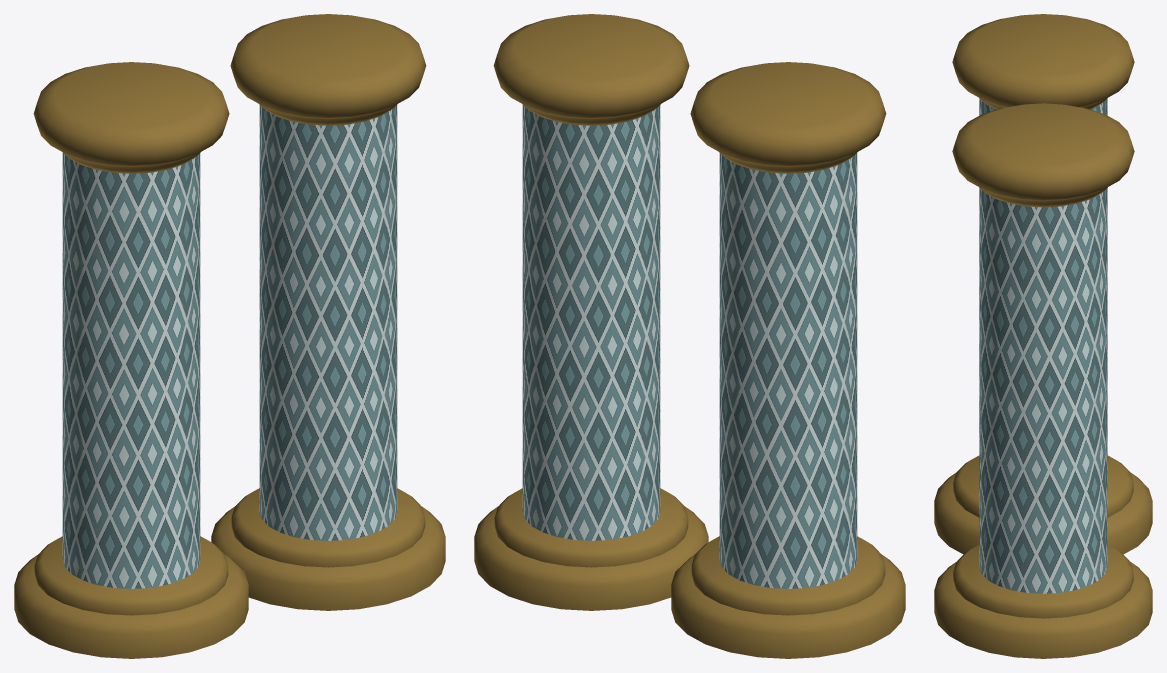
The model's file is DI_010_pillar_var01_02.glb.
3 renders of one model, left to right at view 1: azimuth 30°, elevation 25°; view 2: azimuth 150°, elevation 25°; view 3: azimuth 270°, elevation 25°, orthographic. The views are drawn at different scales.
Visible parts, largest first — view 1: Pillar.004, Pillar.002, StandBottom.001, StandBottom.003, StandTop.003, StandTop.001; view 2: Pillar.004, Pillar.002, StandBottom.001, StandBottom.003, StandTop.003, StandTop.001; view 3: Pillar.004, StandBottom.003, StandTop.003, StandTop.001, StandBottom.001.
Boxes of the visible parts, bbox=[...] form: Pillar.004: bbox=[259, 105, 397, 540]; Pillar.002: bbox=[62, 153, 200, 588]; StandBottom.001: bbox=[14, 536, 248, 658]; StandBottom.003: bbox=[211, 488, 445, 610]; StandTop.003: bbox=[230, 14, 426, 125]; StandTop.001: bbox=[33, 62, 229, 173]; Pillar.004: bbox=[522, 105, 660, 540]; Pillar.002: bbox=[719, 153, 857, 588]; StandBottom.001: bbox=[671, 536, 905, 658]; StandBottom.003: bbox=[474, 488, 708, 610]; StandTop.003: bbox=[493, 14, 689, 125]; StandTop.001: bbox=[690, 62, 886, 173]; Pillar.004: bbox=[979, 188, 1107, 593]; StandBottom.003: bbox=[934, 545, 1152, 658]; StandTop.003: bbox=[952, 103, 1134, 207]; StandTop.001: bbox=[952, 14, 1134, 109]; StandBottom.001: bbox=[934, 455, 1152, 554].
Size of the model in its own units: 1.52 by 1.87 by 0.7735.
Materials: 2 (1 with a texture image).
